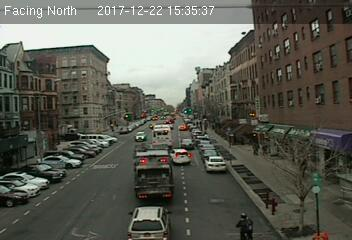bicycle: (232, 209, 257, 240)
bus: (151, 124, 173, 146)
car: (127, 205, 171, 240), (169, 148, 191, 166), (204, 156, 226, 173), (133, 130, 147, 142), (180, 139, 193, 148)
truck: (132, 143, 175, 199)
